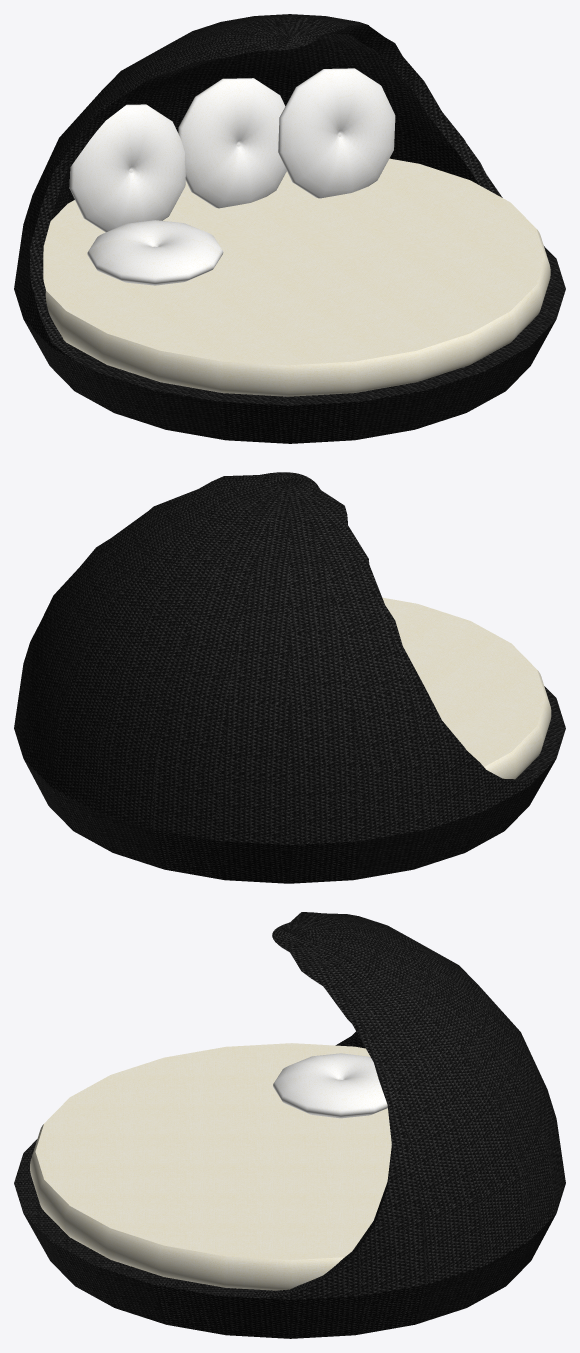
The model's file is daybed furniture 6.dae.
The picture shows the model from 3 angles, top to bottom: view 1: azimuth 30°, elevation 25°; view 2: azimuth 150°, elevation 25°; view 3: azimuth 270°, elevation 25°; orthographic projection.
Parts seen in each view (by area): view 1: group_2, Difference, group_0, group_3, group_4, group_1, group_5; view 2: Difference, group_0, group_2; view 3: group_2, Difference, group_0, group_5.
Part boxes in pixels (x1=…): group_2: x1=43, y1=158, x2=550, y2=396; Difference: x1=14, y1=14, x2=502, y2=359; group_0: x1=24, y1=246, x2=565, y2=443; group_3: x1=278, y1=68, x2=395, y2=198; group_4: x1=178, y1=78, x2=286, y2=208; group_1: x1=69, y1=104, x2=185, y2=232; group_5: x1=87, y1=220, x2=223, y2=285; Difference: x1=14, y1=472, x2=542, y2=844; group_0: x1=24, y1=686, x2=565, y2=883; group_2: x1=382, y1=597, x2=551, y2=779; group_2: x1=30, y1=1043, x2=391, y2=1290; Difference: x1=254, y1=912, x2=565, y2=1299; group_0: x1=14, y1=1139, x2=555, y2=1338; group_5: x1=273, y1=1053, x2=387, y2=1118.
Bounding box in the file's own units: 78.74 × 78.74 × 47.24.
5 materials, 4 textured.
